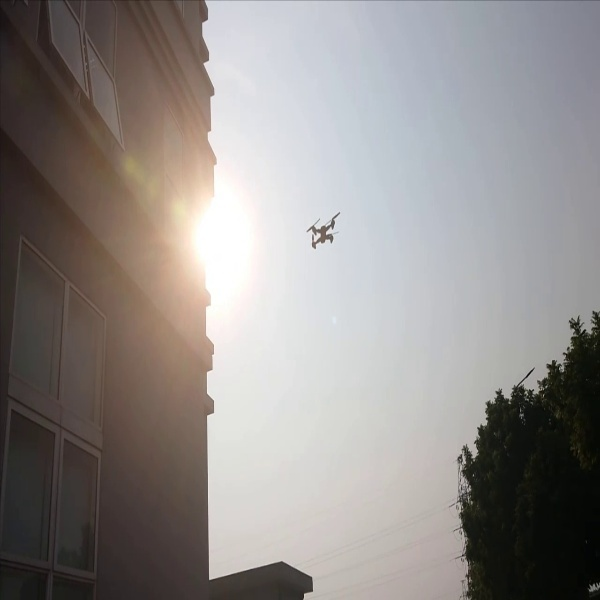drone: (303, 204, 341, 255)
